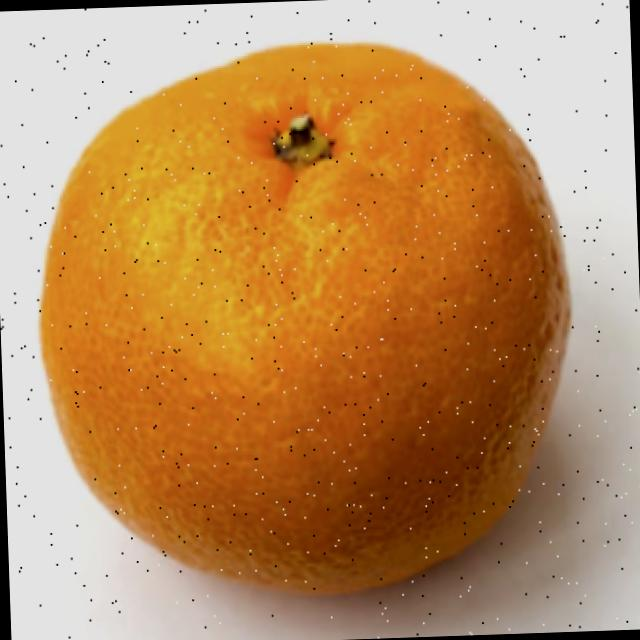pineapple: (28, 37, 595, 608)
